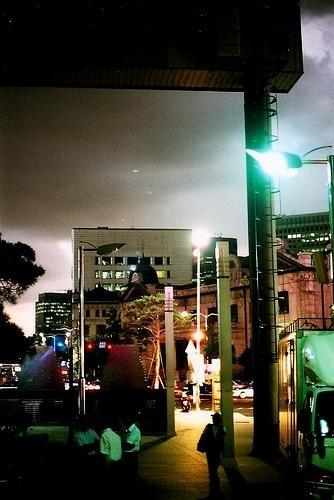truck: (277, 318, 334, 498)
